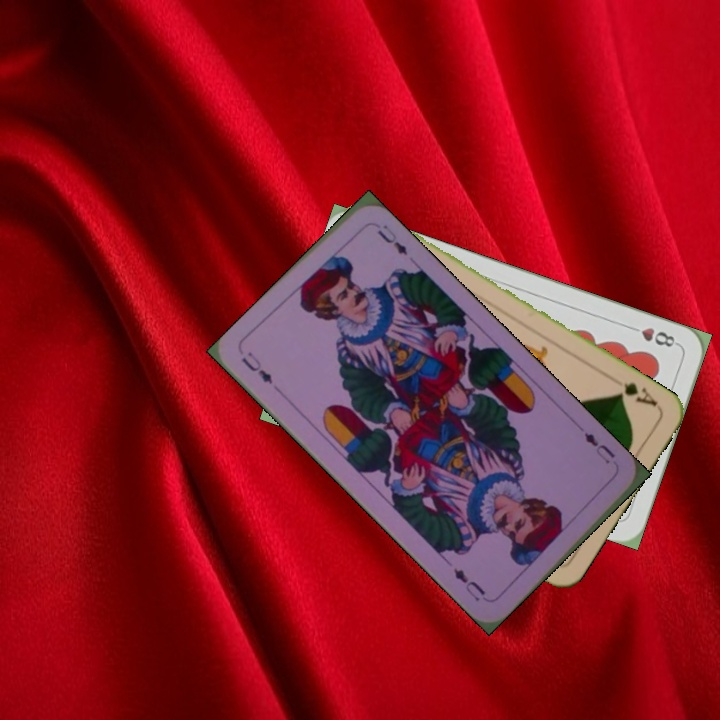EU: (580, 428, 621, 471), (237, 347, 275, 387)
GA: (613, 378, 661, 410)
H8: (624, 322, 681, 350)
